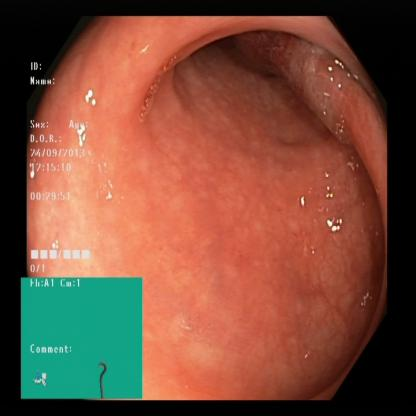Labels: (27, 56, 102, 275), (19, 277, 142, 397)
Polyps: (265, 141, 373, 360)
